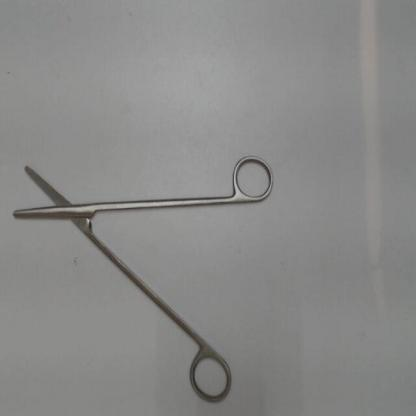9 Metzenbaum Scissors: (12, 149, 277, 407)
